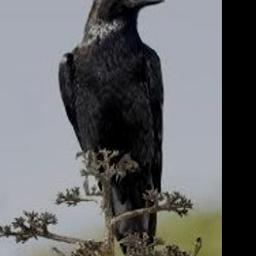Crow: (59, 0, 165, 256)
